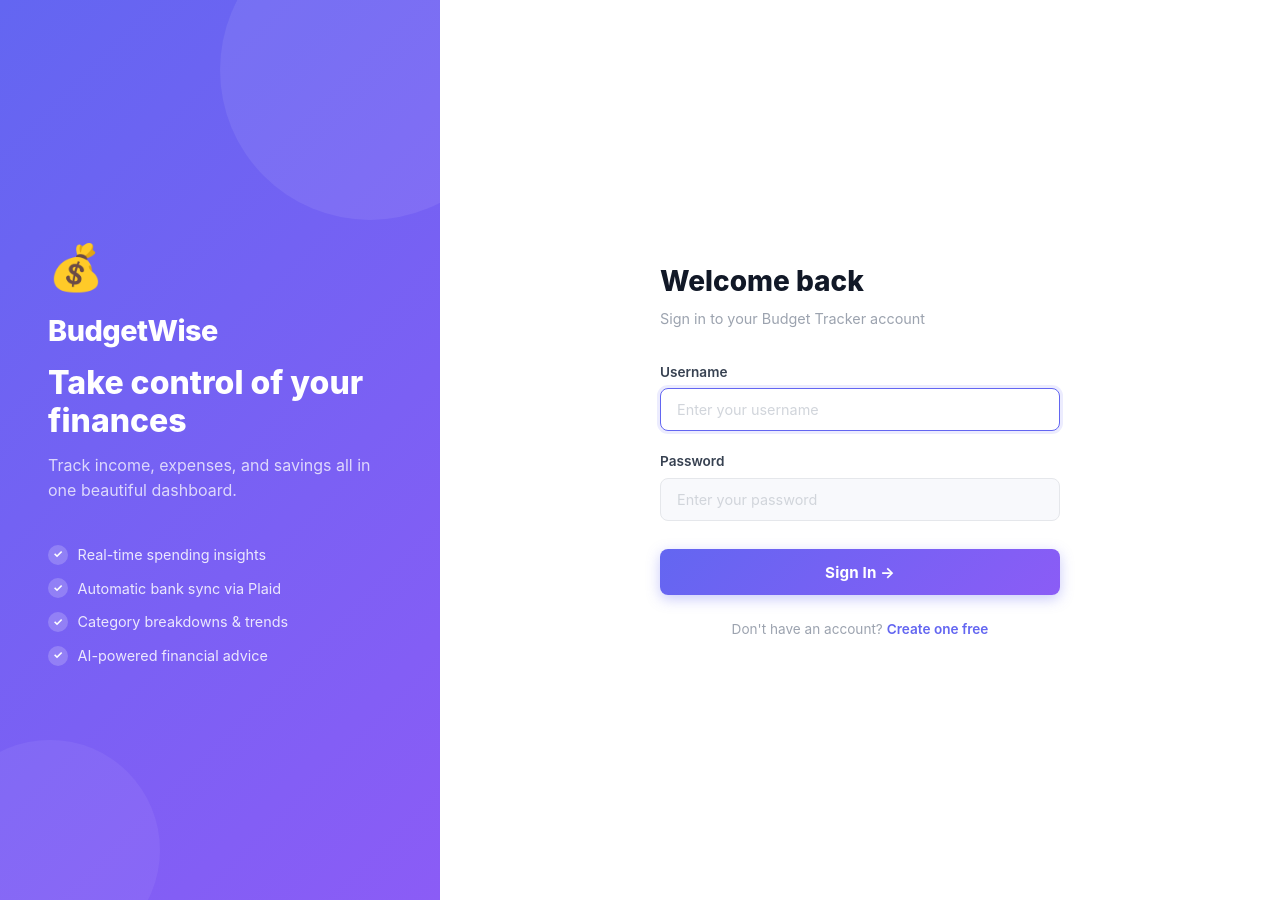
Test: LoginPage › shows error on failed login
Type "alice" into the field with placeholder "Enter your username" at (860, 410), box [660,388,1060,431]
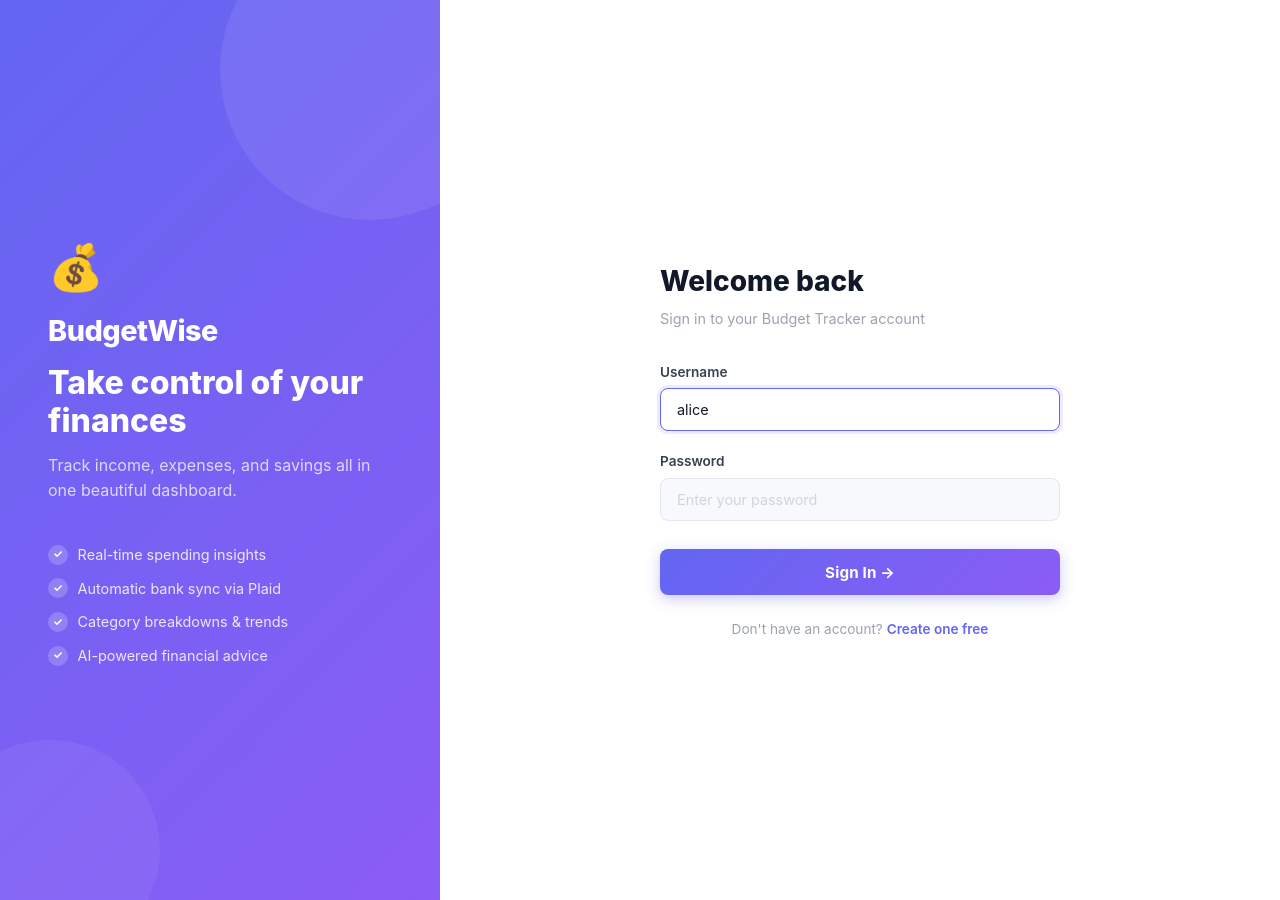
Type "wrongpass" into the password field with placeholder "Enter your password" at (860, 500), box [660,478,1060,521]
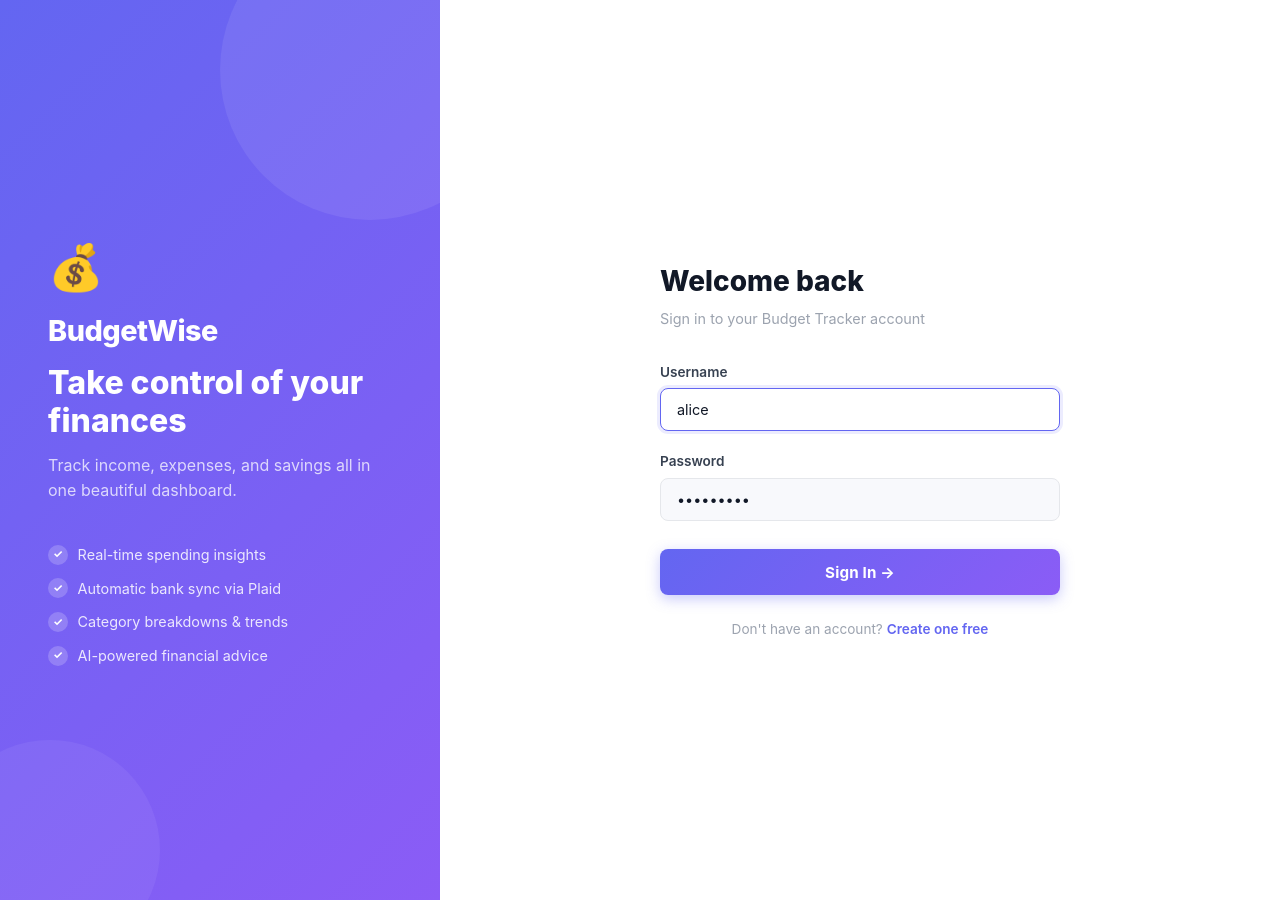
Click the button "Sign In →" at (860, 572), box [660,549,1060,595]
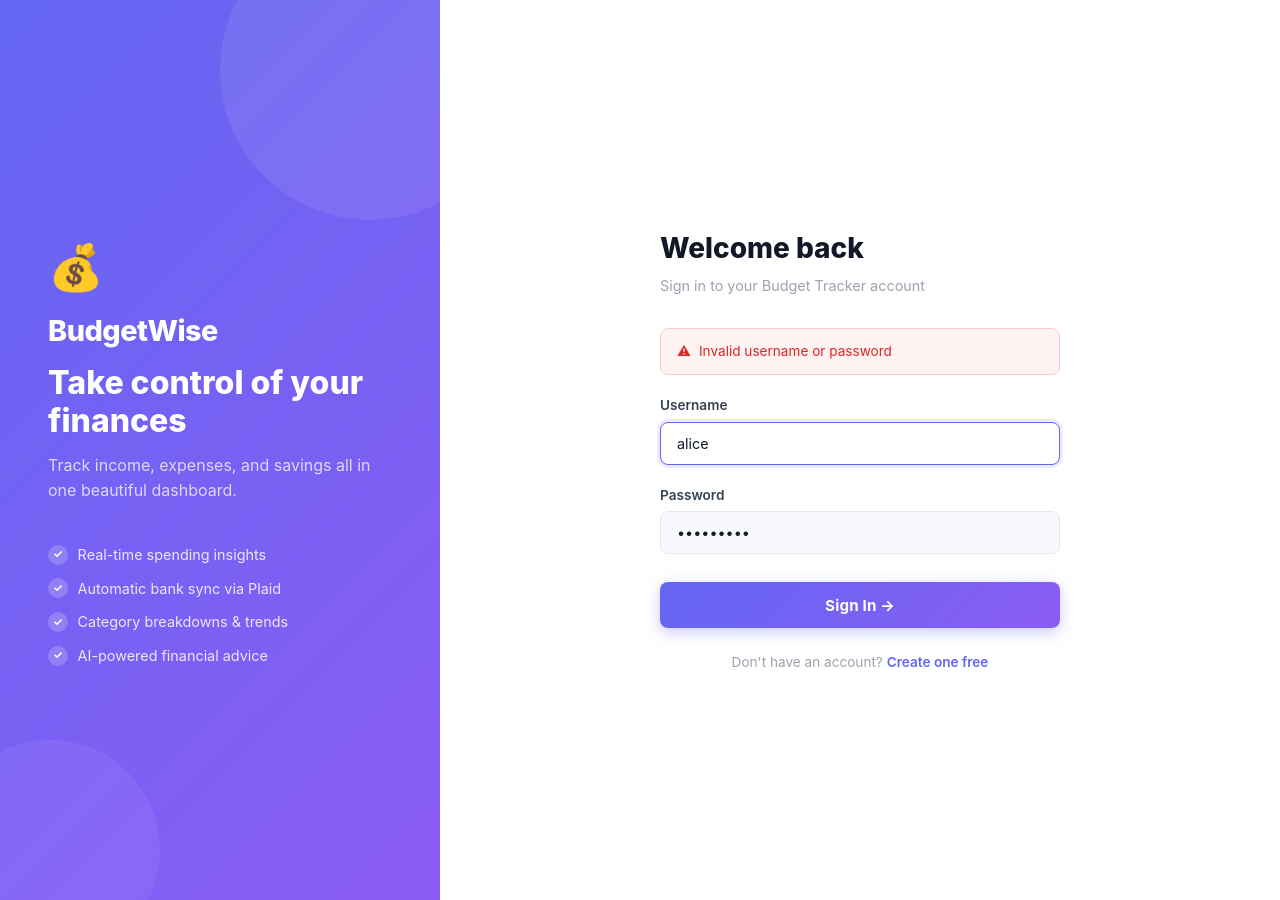
Now the text "Invalid username or password" is shown, box [699,343,892,359]
